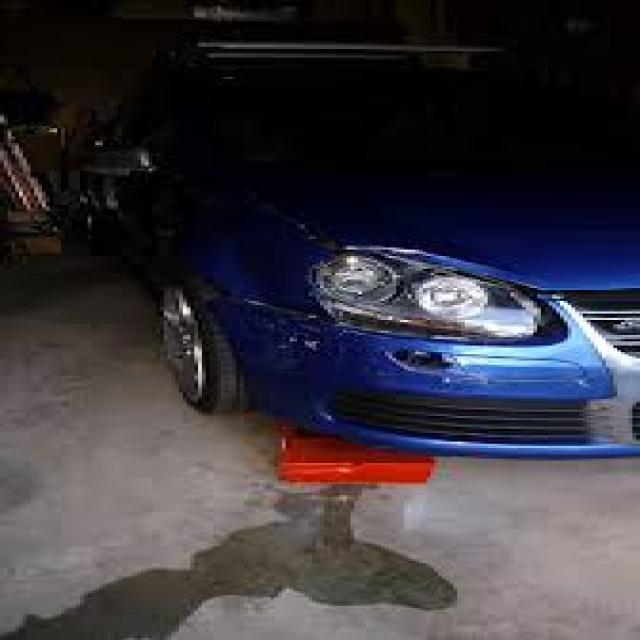minor: (272, 210, 587, 423)
